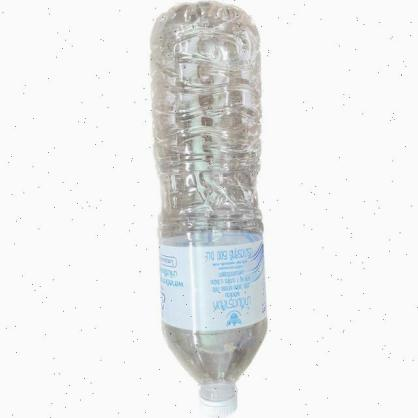bottle: (156, 0, 269, 418)
cap: (197, 385, 239, 418)
label: (158, 234, 268, 331)
